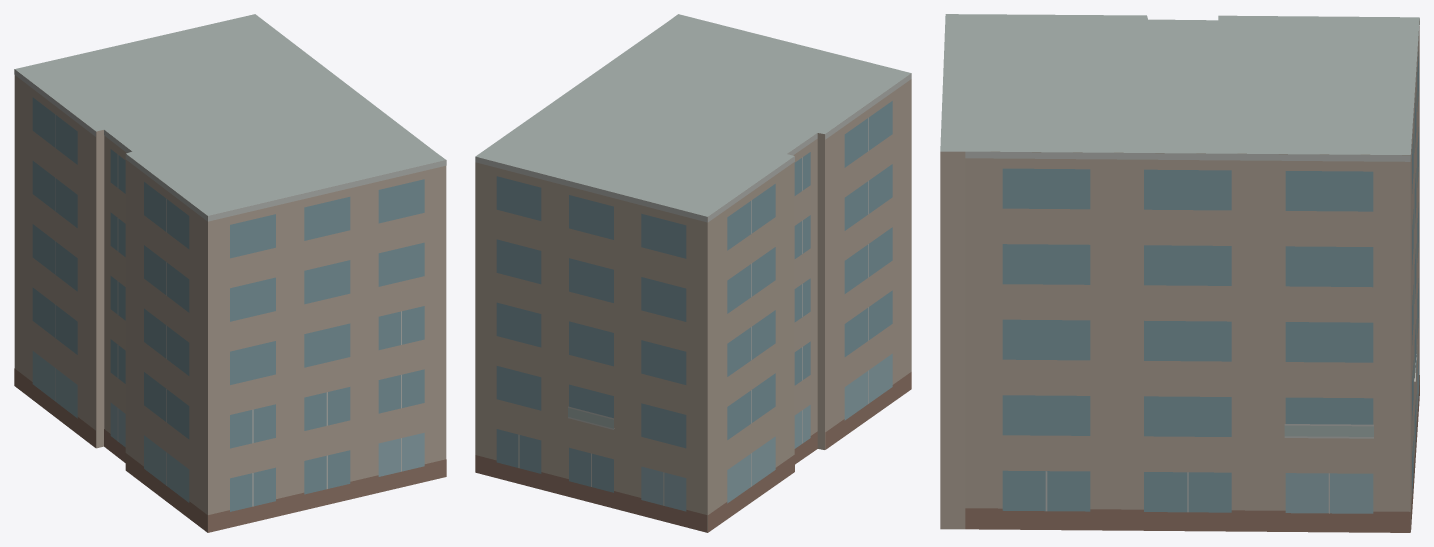
Rendered from survey-upis-32858302.glb.
3 renders of one model, left to right at view 1: azimuth 30°, elevation 25°; view 2: azimuth 150°, elevation 25°; view 3: azimuth 270°, elevation 25°, orthographic. The views are drawn at different scales.
Parts seen in each view (by area): view 1: survey-upis-32858302.tmp; view 2: survey-upis-32858302.tmp; view 3: survey-upis-32858302.tmp.
Part boxes in pixels (<box>): survey-upis-32858302.tmp: <box>14,14,446,532</box>; survey-upis-32858302.tmp: <box>475,14,911,532</box>; survey-upis-32858302.tmp: <box>940,14,1419,532</box>.
Bounding box in the file's own units: 10.96 × 13.65 × 15.71.
